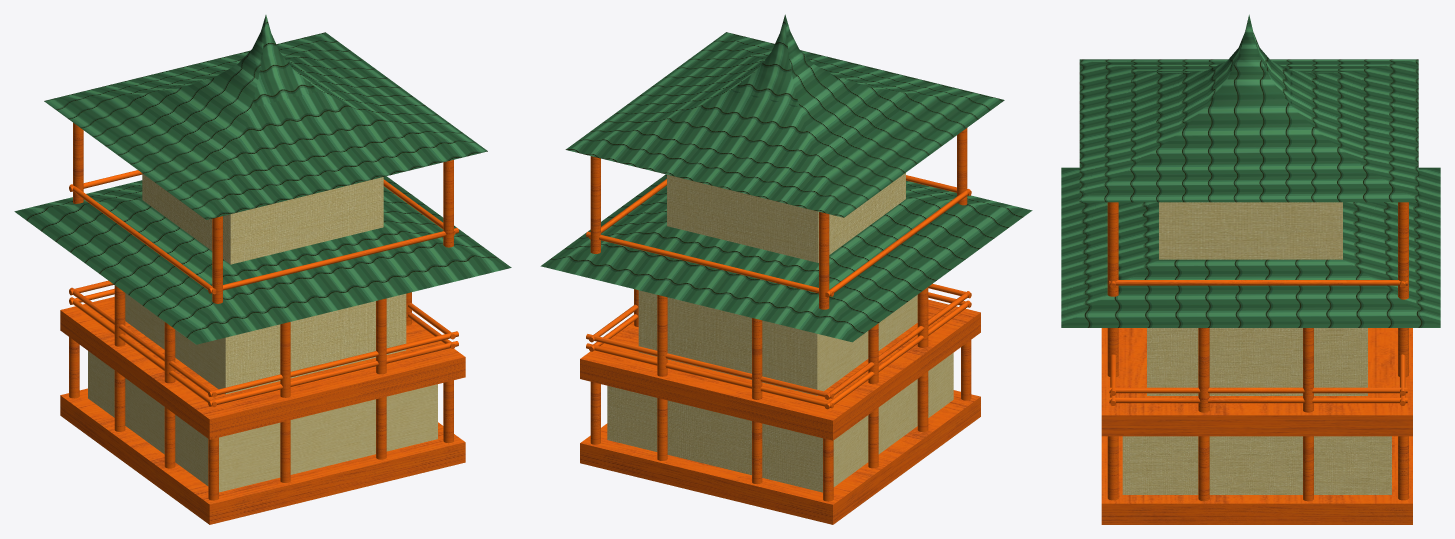
The model's file is Build3.fbx.
3 views of the same model, side by side, from view 1: azimuth 30°, elevation 25°; view 2: azimuth 150°, elevation 25°; view 3: azimuth 270°, elevation 25° (orthographic). The views are drawn at different scales.
Visible parts, largest first — view 1: Line002, Line001, Box001, Box002, Cylinder032, Cylinder021, Cylinder020, Cylinder034, Cylinder025, Cylinder024, Cylinder030, Cylinder029 (+12 smaller); view 2: Line002, Line001, Box001, Box002, Cylinder035, Cylinder026, Cylinder027, Cylinder031, Cylinder034, Cylinder036, Cylinder024, Cylinder025 (+12 smaller); view 3: Line002, Line001, Box002, Box001, Cylinder022, Cylinder023, Cylinder033, Cylinder030, Cylinder031, Cylinder019, Cylinder018, Cylinder011 (+4 smaller).
Boxes of the visible parts, box(x1,y1,x2,y2) form: Line002: box(44, 15, 487, 219); Line001: box(14, 173, 511, 344); Box001: box(60, 351, 465, 524); Box002: box(60, 293, 465, 439); Cylinder032: box(208, 228, 458, 293); Cylinder021: box(208, 331, 458, 396); Cylinder020: box(208, 341, 458, 406); Cylinder034: box(69, 184, 216, 294); Cylinder025: box(69, 287, 216, 397); Cylinder024: box(69, 297, 216, 407); Cylinder030: box(443, 160, 453, 247); Cylinder029: box(212, 216, 222, 303); Line002: box(565, 14, 1004, 217); Line001: box(540, 173, 1032, 342); Box001: box(580, 353, 980, 524); Box002: box(580, 290, 980, 440); Cylinder035: box(586, 231, 833, 296); Cylinder026: box(586, 343, 833, 408); Cylinder027: box(586, 334, 833, 398); Cylinder031: box(590, 156, 600, 253); Cylinder034: box(825, 189, 970, 297); Cylinder036: box(819, 212, 829, 309); Cylinder024: box(824, 300, 970, 409); Cylinder025: box(824, 291, 970, 399); Line002: box(1079, 14, 1418, 202); Line001: box(1061, 167, 1440, 327); Box002: box(1101, 328, 1412, 436); Box001: box(1101, 436, 1412, 524); Cylinder022: box(1109, 397, 1407, 403); Cylinder023: box(1109, 387, 1407, 393); Cylinder033: box(1109, 280, 1407, 285); Cylinder030: box(1107, 202, 1118, 296); Cylinder031: box(1398, 202, 1408, 299); Cylinder019: box(1198, 328, 1209, 412); Cylinder018: box(1303, 328, 1313, 412); Cylinder011: box(1198, 436, 1209, 501).
Bounding box in the file's own units: 147 × 191 × 147.
Materials: 6 (3 with a texture image).
